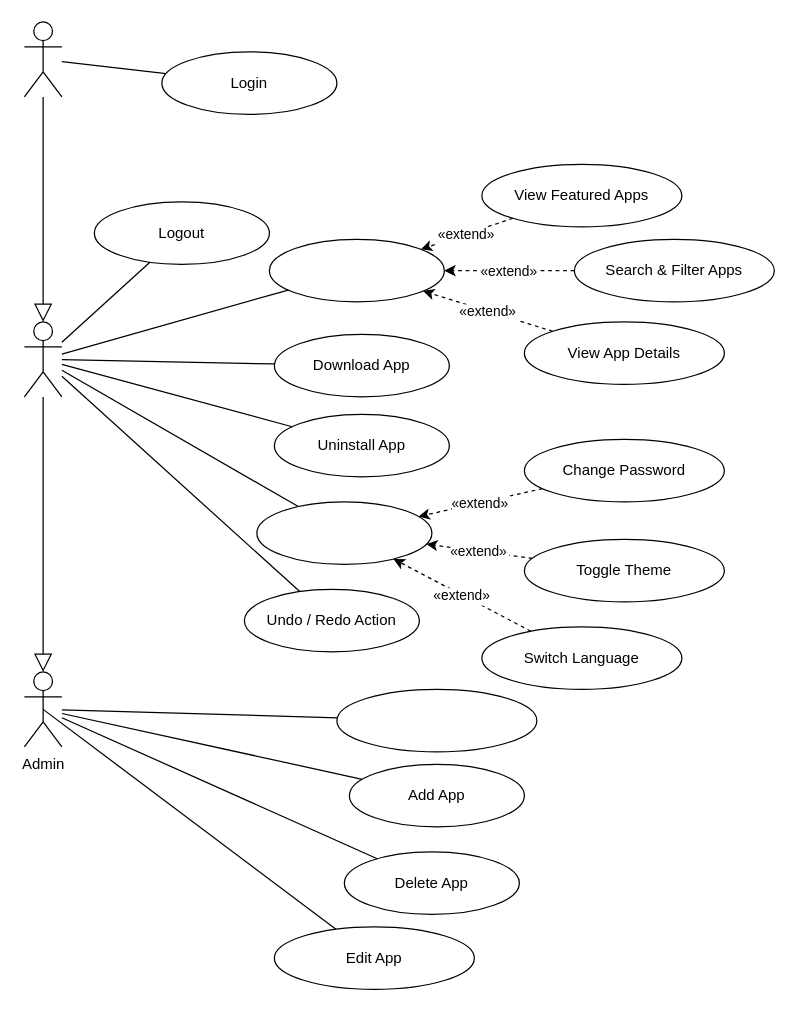
This 796x1011 diagram has some shape labels left out. The centre of each missing label's shape, as x and y in pixels:
"Browse Apps" belongs at point (356, 270).
"Edit Profile" belongs at point (344, 532).
"Guest" belongs at point (42, 59).
"Restore Defaults" belongs at point (436, 720).
"User" belongs at point (42, 359).
